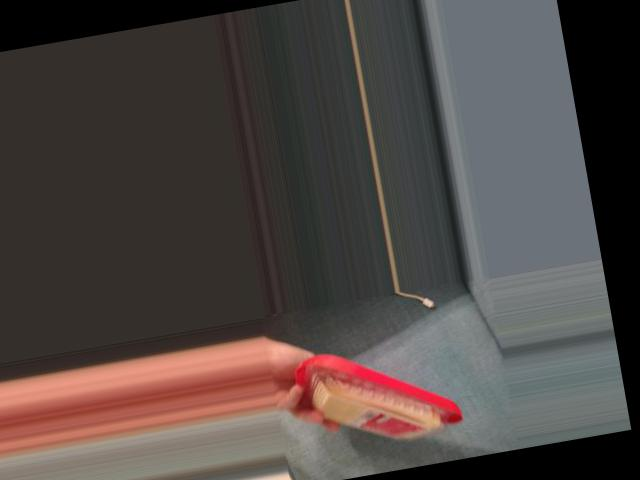cheese: (285, 326, 467, 461)
